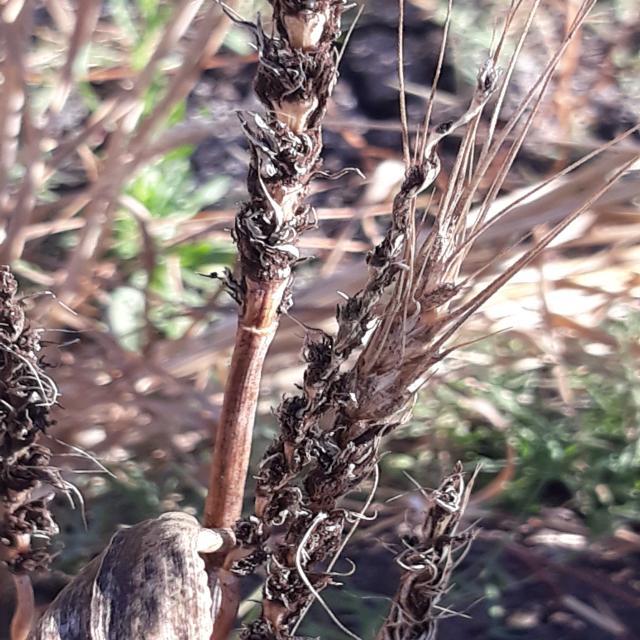loose_charred: (233, 18, 574, 640), (190, 0, 368, 481), (0, 254, 87, 640), (27, 504, 267, 640), (372, 462, 488, 640)
